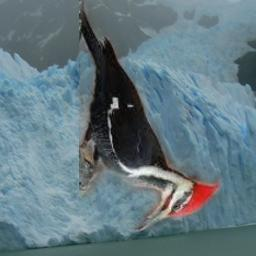Woodpecker: (79, 0, 221, 232)
